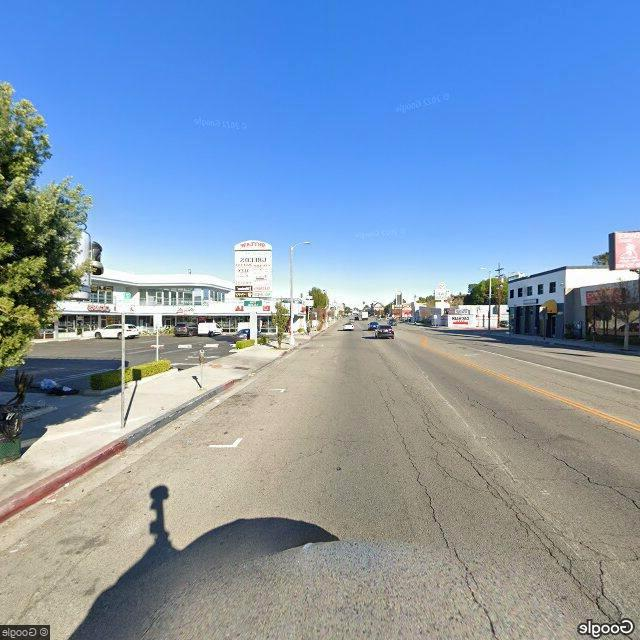crack: (373, 377, 640, 629)
